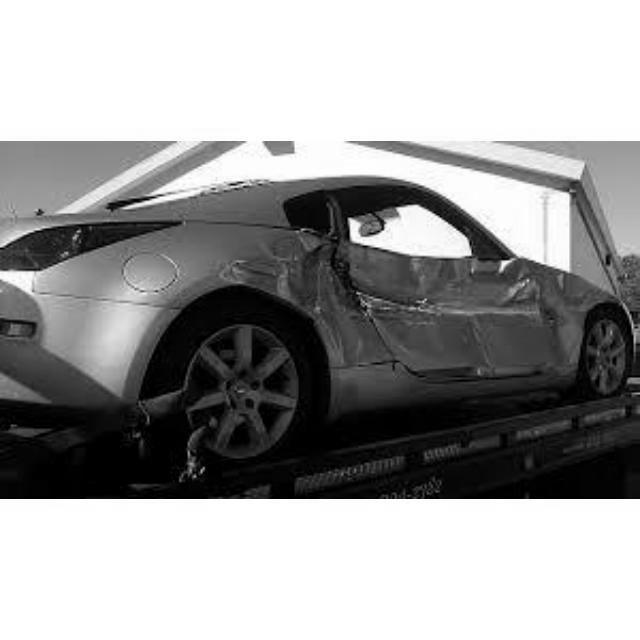doorouter-dent: (344, 235, 523, 373)
fender-dent: (540, 267, 612, 345)
quaterpanel-dent: (188, 229, 328, 312)
